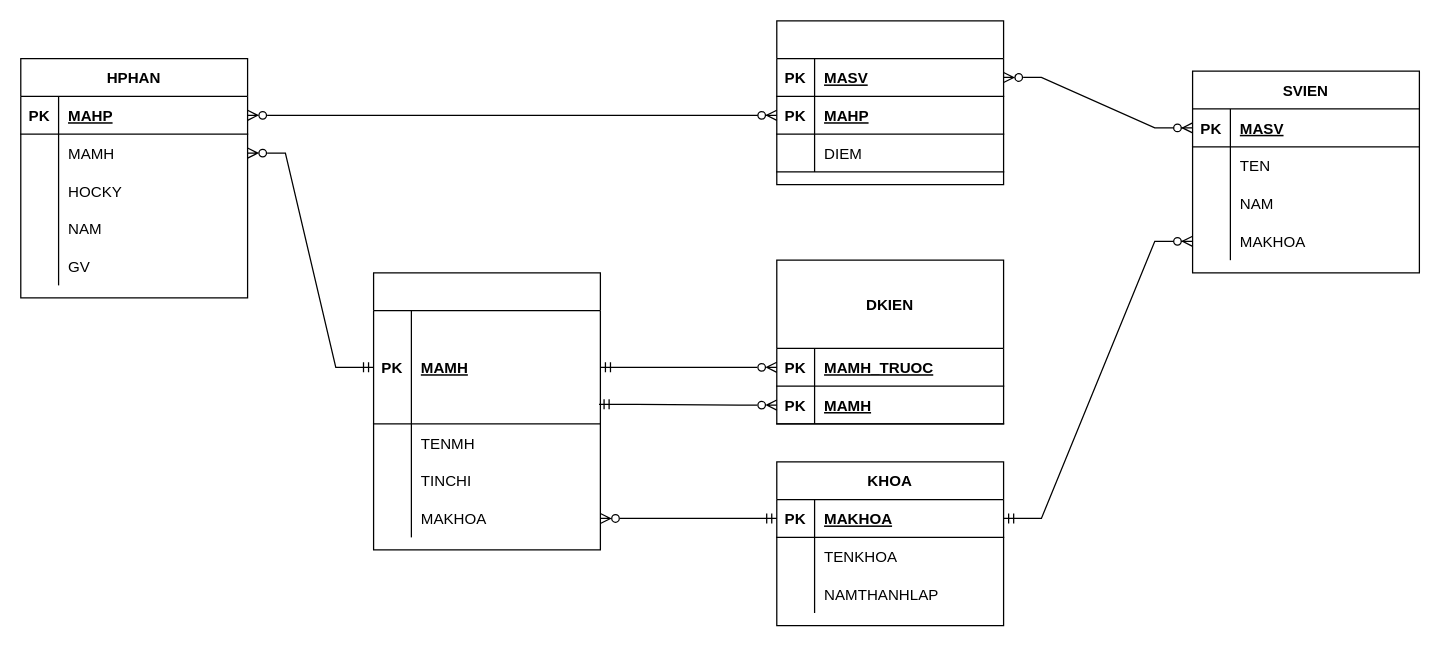
Some shapes in this 1440 by 646 pixel diagram are drawn without their labels. The box of each missing label's shape, as (x1, y1, x2, y2) in pixels:
KQUA: (776, 20, 1004, 185)
MHOC: (372, 272, 600, 550)
